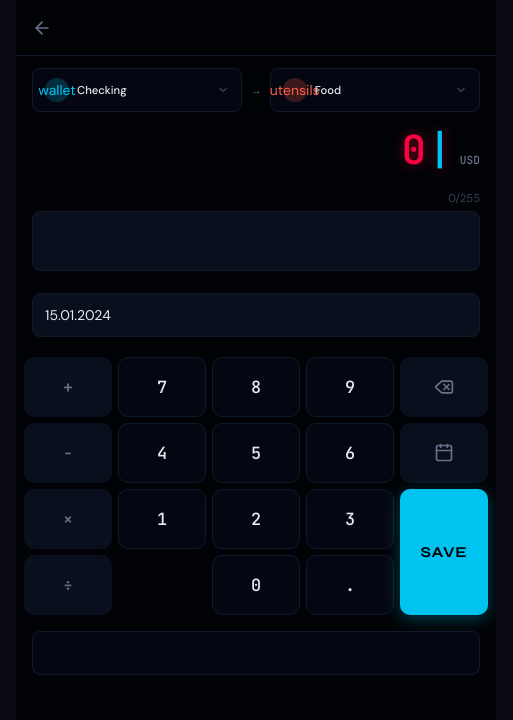
Test case: handleStep3ToPick › expenseCategory: TO pill shows the selected category name
The image size is (513, 720).
Expected: the text "Checking" is shown, [77,83,127,97]
Expected: the text "Food" is shown, [315,83,341,97]
What coordinates should you click on to do the following:
click the button "utensils Food"
I would click on:
 (375, 90)
Its box is [270,68,480,112].
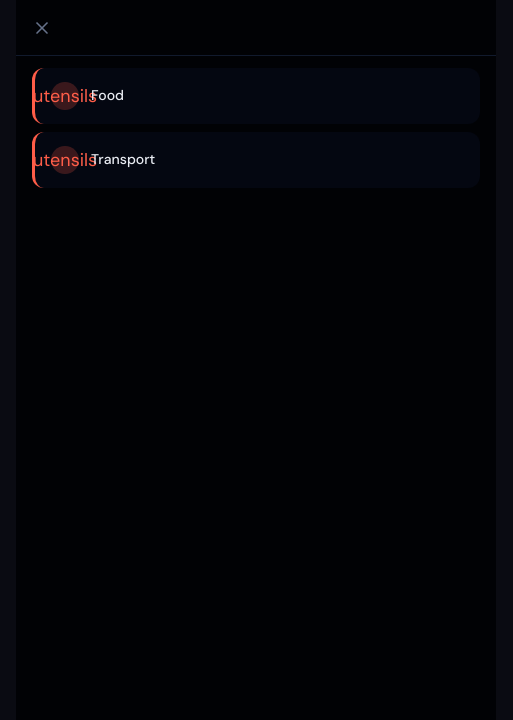
What coordinates should you click on to do the following:
click the text "Transport"
I would click on:
 (123, 160)
Its box is [91,150,155,171].
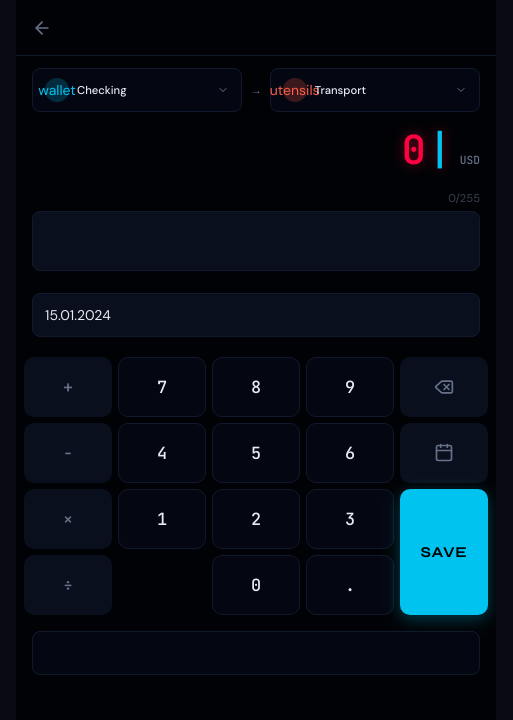
Now the text "Transport" is shown, box [315,83,366,97]
